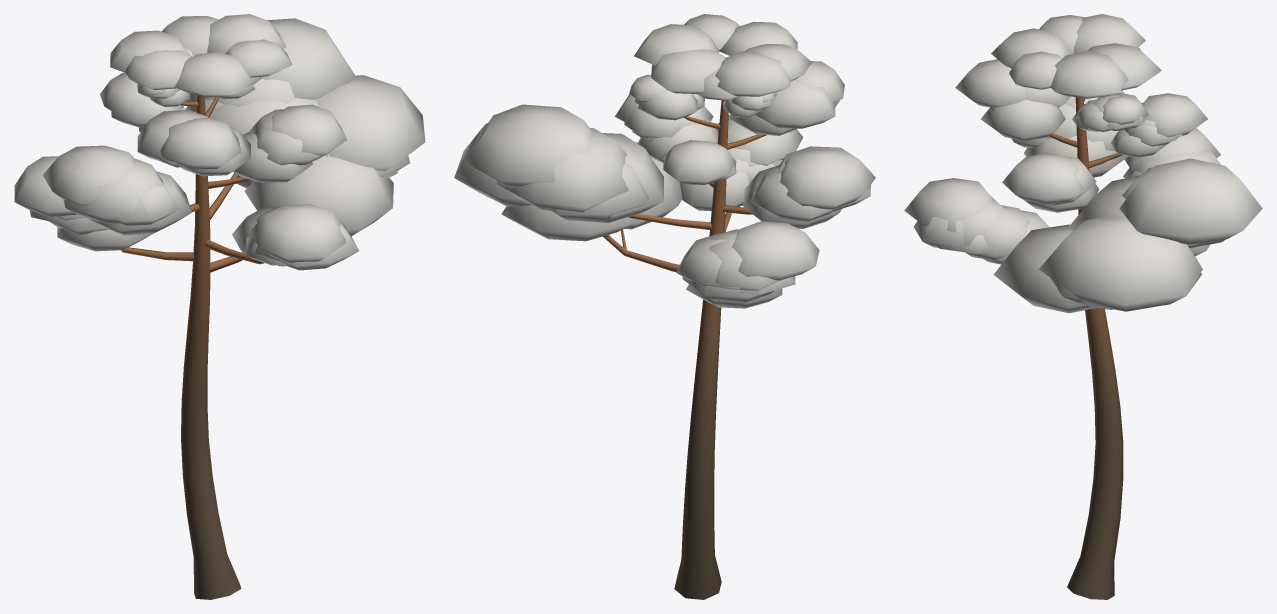
The picture shows the model from 3 angles, left to right: view 1: azimuth 30°, elevation 25°; view 2: azimuth 150°, elevation 25°; view 3: azimuth 270°, elevation 25°; orthographic projection. The views are drawn at different scales.
Visible parts, largest first — view 1: crown, trunk; view 2: crown, trunk; view 3: crown, trunk.
Part boxes in pixels (<box>): crown: <box>14,14,425,270</box>; trunk: <box>121,95,264,599</box>; crown: <box>454,14,875,308</box>; trunk: <box>603,100,766,599</box>; crown: <box>904,14,1262,313</box>; trunk: <box>1049,97,1123,599</box>.
Size of the model in its own units: 17.88 by 24.84 by 14.74.
